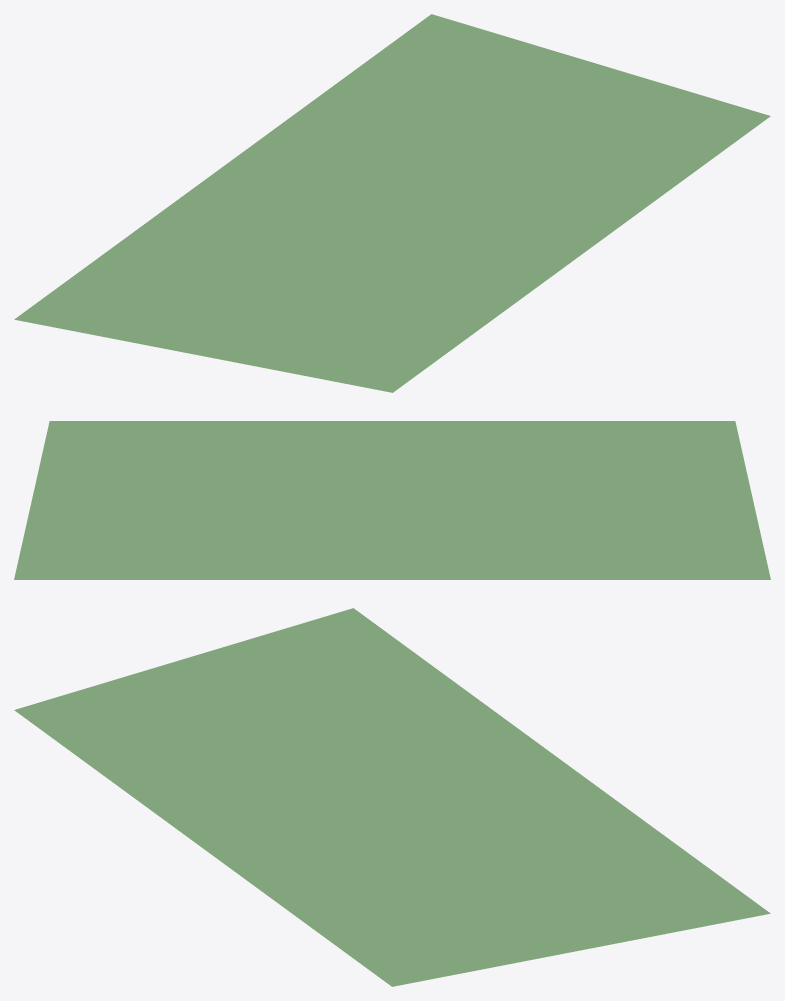
File: Bridge.L.0.fbx
The picture shows the model from 3 angles, top to bottom: view 1: azimuth 30°, elevation 25°; view 2: azimuth 150°, elevation 25°; view 3: azimuth 270°, elevation 25°; orthographic projection. The views are drawn at different scales.
Visible parts, largest first — view 1: Bridge.L.0; view 2: Bridge.L.0; view 3: Bridge.L.0.
Boxes of the visible parts, left/top/right/bottom form: Bridge.L.0: left=14, top=14, right=770, bottom=392; Bridge.L.0: left=14, top=421, right=770, bottom=579; Bridge.L.0: left=14, top=608, right=770, bottom=986.
Size of the model in its own units: 0.5566 by 0.47 by 0.
